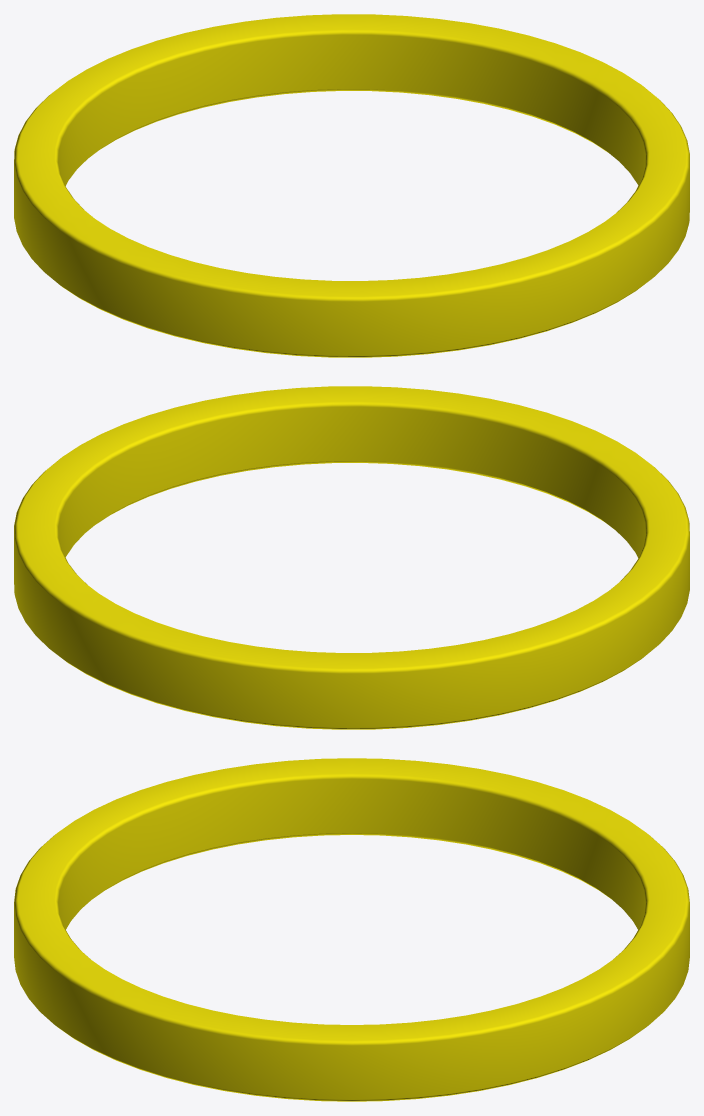
The picture shows the model from 3 angles, top to bottom: view 1: azimuth 30°, elevation 25°; view 2: azimuth 150°, elevation 25°; view 3: azimuth 270°, elevation 25°; orthographic projection.
Visible parts, largest first — view 1: seal_body; view 2: seal_body; view 3: seal_body.
Part boxes in pixels (left/top/right/bottom): seal_body: left=14, top=14, right=689, bottom=357; seal_body: left=14, top=386, right=689, bottom=729; seal_body: left=14, top=758, right=689, bottom=1101.
Bounding box in the file's own units: 0.0951 × 0.00952 × 0.0951.
